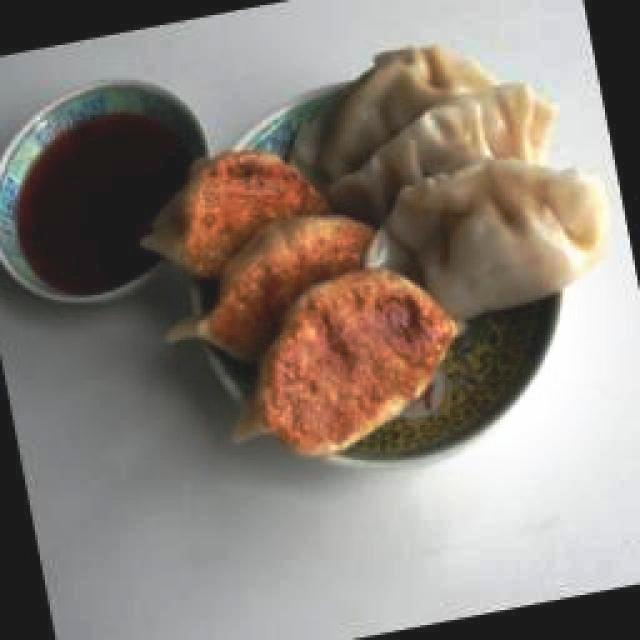fried_dumplings: (230, 270, 464, 458), (370, 163, 608, 319), (165, 215, 371, 356), (328, 84, 549, 201), (321, 47, 499, 174), (145, 150, 323, 275)
